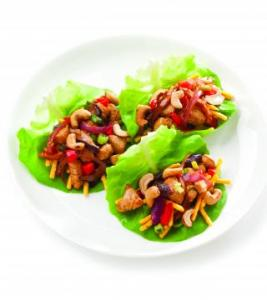chopped lettuce: (108, 128, 195, 188), (18, 95, 63, 185), (114, 55, 164, 121)
